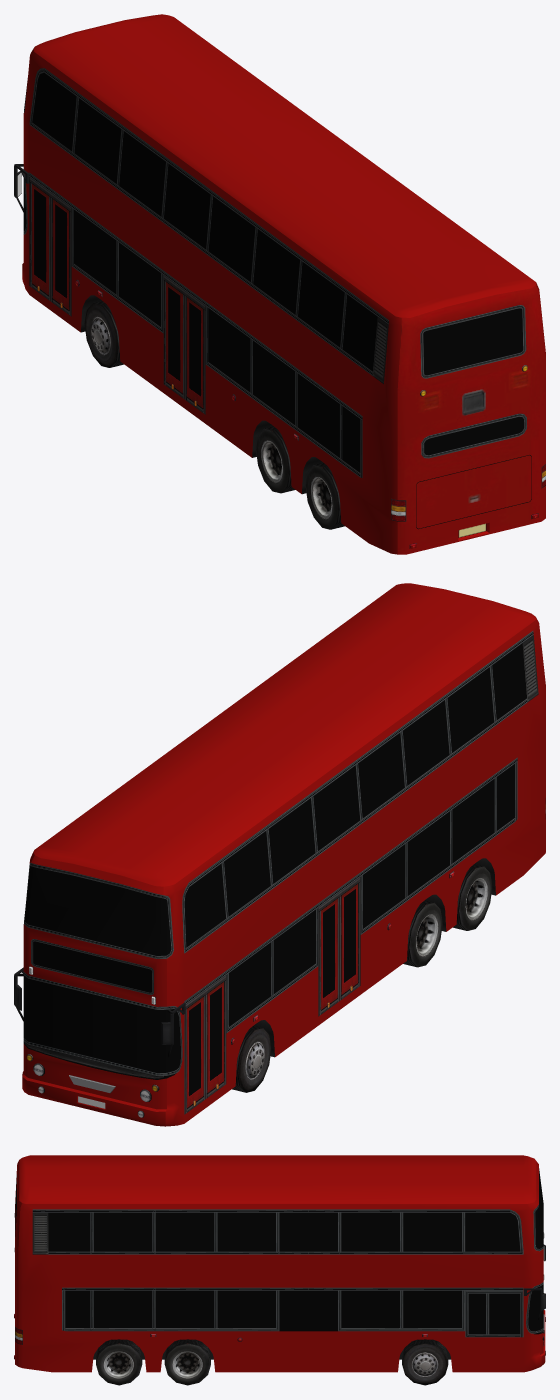
The model's file is Double_Decker_Bus_01.fbx.
3 views of the same model, one above another, from view 1: azimuth 30°, elevation 25°; view 2: azimuth 150°, elevation 25°; view 3: azimuth 270°, elevation 25° (orthographic). The views are drawn at different scales.
Visible parts, largest first — view 1: DoubleDecker_Body, DeckerBus_Windows_Glass, Door (×4), Glass (×4), Decker_Tire_4, Decker_Tire_5, Decker_Tire_6; view 2: DoubleDecker_Body, DeckerBus_Windows_Glass, Door (×4), Glass (×4), Decker_Tire_4, Decker_Tire_5, Decker_Tire_6; view 3: DoubleDecker_Body, DeckerBus_Windows_Glass, Decker_Tire_2, Decker_Tire_1, Decker_Tire_3.
Boxes of the visible parts, bbox=[...] form: DoubleDecker_Body: bbox=[14, 14, 545, 554]; DeckerBus_Windows_Glass: bbox=[23, 73, 523, 472]; Door (×4): bbox=[29, 177, 205, 414]; Glass (×4): bbox=[34, 189, 200, 395]; Decker_Tire_4: bbox=[305, 462, 344, 529]; Decker_Tire_5: bbox=[256, 426, 295, 493]; Decker_Tire_6: bbox=[84, 301, 123, 367]; DoubleDecker_Body: bbox=[14, 583, 545, 1126]; DeckerBus_Windows_Glass: bbox=[23, 643, 526, 1072]; Door (×4): bbox=[184, 877, 360, 1114]; Glass (×4): bbox=[189, 889, 355, 1094]; Decker_Tire_4: bbox=[453, 864, 492, 930]; Decker_Tire_5: bbox=[403, 900, 442, 967]; Decker_Tire_6: bbox=[232, 1025, 271, 1092]; DoubleDecker_Body: bbox=[14, 1155, 545, 1372]; DeckerBus_Windows_Glass: bbox=[15, 1168, 543, 1334]; Decker_Tire_2: bbox=[164, 1339, 210, 1385]; Decker_Tire_1: bbox=[402, 1339, 448, 1385]; Decker_Tire_3: bbox=[96, 1339, 142, 1385].
Bounding box in the file's own units: 22.93 × 36.23 × 95.4.
